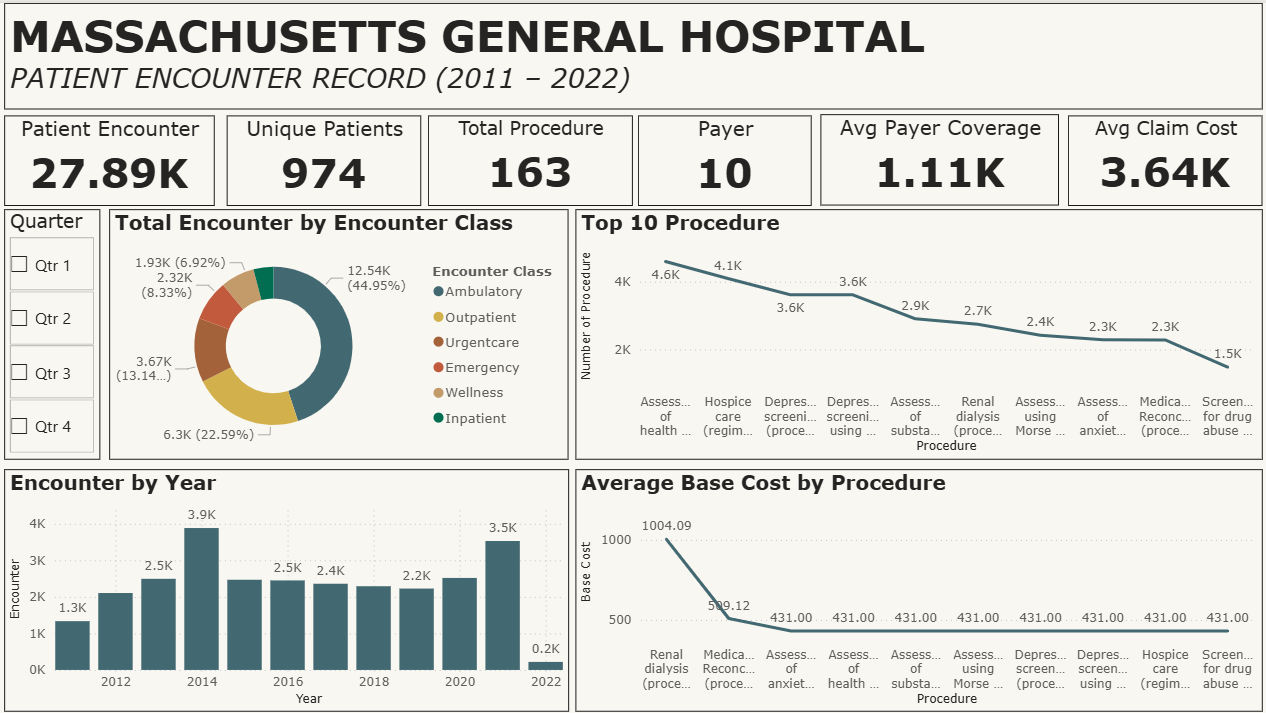

Layout of this report page (visuals, bound fields, positions):
{"tool":"powerbi","page":{"name":"Dashboard","canvas":[1280,720],"ordinal":0},"visuals":[{"type":"textbox","box":[11.2,0,1258.8,106.2],"z":0},{"type":"card","title":"Patient Encounter","fields":{"Values":["Encounter.ID"]},"box":[11.1,112.2,210,90],"z":1000},{"type":"card","title":"Unique Patients","fields":{"Values":["Patients.First_Name"]},"box":[233.3,112.2,194.4,90],"z":2000},{"type":"card","title":"Avg Payer Coverage","fields":{"Values":["Encounter.Payer_Coverage"]},"box":[827.5,111.2,238.8,91.2],"z":3000},{"type":"lineChart","title":"Top 10 Procedure","fields":{"Category":["Procedure.Procedure"],"Y":["Procedure.Procedure"]},"box":[582.5,206.2,687.5,250],"z":4000},{"type":"clusteredColumnChart","fields":{"Y":["Encounter.ID"],"Category":["Encounter.Start_Date.Variation.Date Hierarchy.Year"]},"box":[10.8,466.7,565,242.5],"z":5000},{"type":"donutChart","title":"Total Encounter by Encounter Class","fields":{"Category":["Encounter.Encounter_Class"],"Y":["Encounter.ID"]},"box":[116.7,206.7,459.2,250],"z":6000},{"type":"card","title":"Total Procedure","fields":{"Values":["Procedure.Procedure"]},"box":[435.6,112.2,204.4,90],"z":7000},{"type":"lineChart","title":"Average Base Cost by Procedure","fields":{"Y":["Procedure.Base_Cost"],"Category":["Procedure.Procedure"]},"box":[582.5,466.7,687.5,242.5],"z":8000},{"type":"card","title":"Avg Claim Cost","fields":{"Values":["Encounter.Total_Claim_Cost"]},"box":[1075.6,112.2,194.4,90],"z":9000},{"type":"card","title":"Payer","fields":{"Values":["Encounter.Payer"]},"box":[645.6,112.2,173.3,90],"z":10000},{"type":"listSlicer","fields":{"Values":["Encounter.Start_Date.Variation.Date Hierarchy.Quarter"]},"box":[11.2,206.2,96.2,250],"z":11000}]}

Visuals, with their boxes in screenshot pixels (x1, y1, x2, y2), scaled from the page's 1280x720 canvas onto the 1266x713 screenshot:
textbox: locate(11, 0, 1256, 105)
"Patient Encounter" card: locate(11, 111, 219, 200)
"Unique Patients" card: locate(231, 111, 423, 200)
"Avg Payer Coverage" card: locate(818, 110, 1055, 200)
"Top 10 Procedure" lineChart: locate(576, 204, 1256, 452)
clusteredColumnChart - Encounter.ID x Encounter.Start_Date.Variation.Date Hierarchy.Year: locate(11, 462, 570, 702)
"Total Encounter by Encounter Class" donutChart: locate(115, 205, 570, 452)
"Total Procedure" card: locate(431, 111, 633, 200)
"Average Base Cost by Procedure" lineChart: locate(576, 462, 1256, 702)
"Avg Claim Cost" card: locate(1064, 111, 1256, 200)
"Payer" card: locate(639, 111, 810, 200)
listSlicer - Encounter.Start_Date.Variation.Date Hierarchy.Quarter: locate(11, 204, 106, 452)
